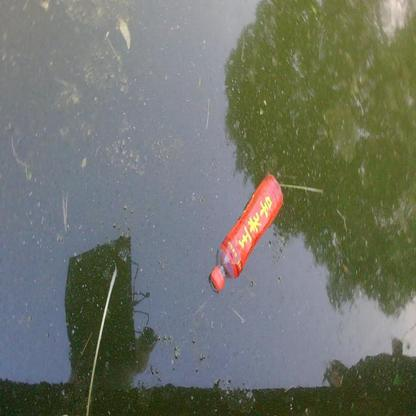plastic bottle: (209, 174, 285, 290)
